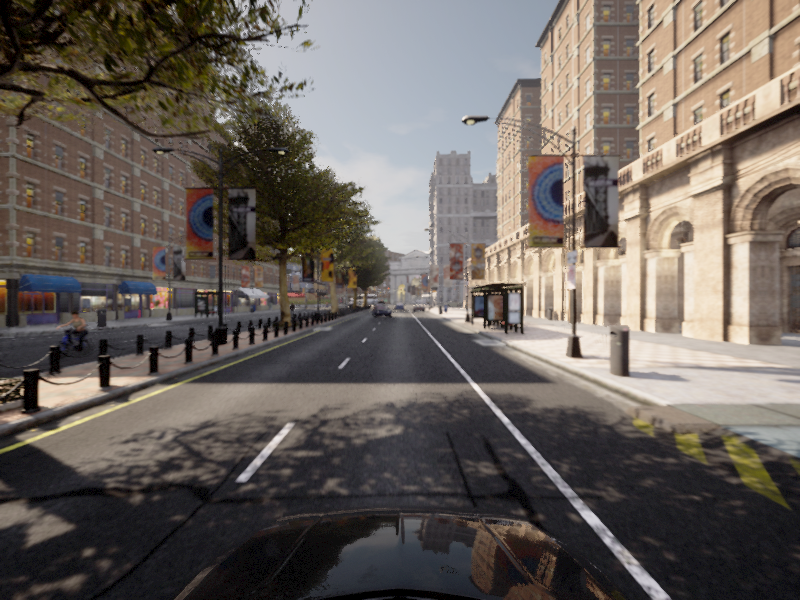vehicle: (42, 310, 101, 359), (371, 305, 392, 318), (286, 302, 297, 319)
